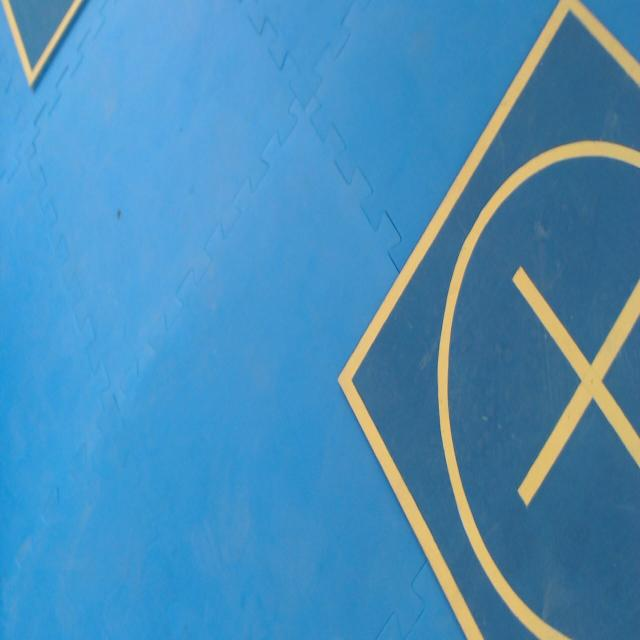base_pouso: (339, 1, 640, 637), (0, 0, 85, 88)
